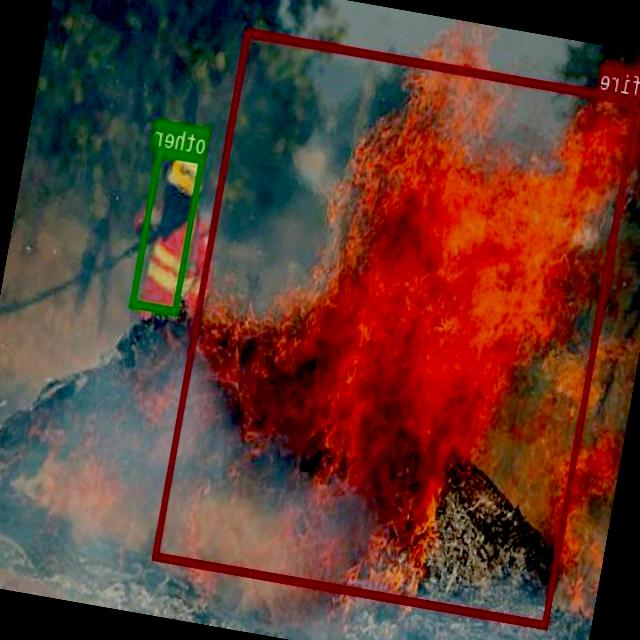fire: (153, 28, 640, 627)
